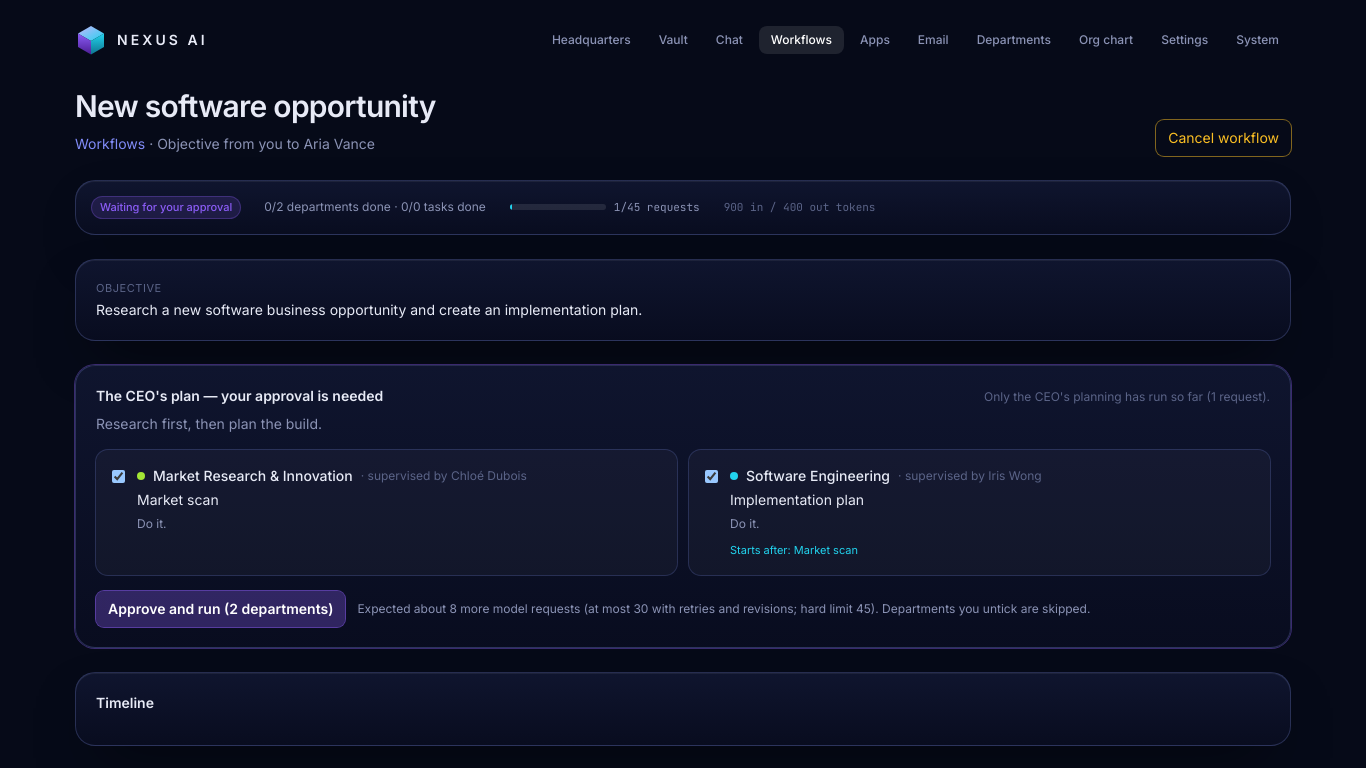
WorkflowDetailPage › asks for approval, shows dependencies and the cost estimate, and approves without removed departments
This screenshot has width=1366, height=768.
Expected: the element with test id "plan-review" shows "Research first, then plan the build.", [96,415,322,432]
Expected: the element with test id "plan-review" shows "Starts after: Market scan", [75,365,1291,648]
Step 1. Click the checkbox named "Include Market Research & Innovation" → (118, 476), box [112,470,125,483]
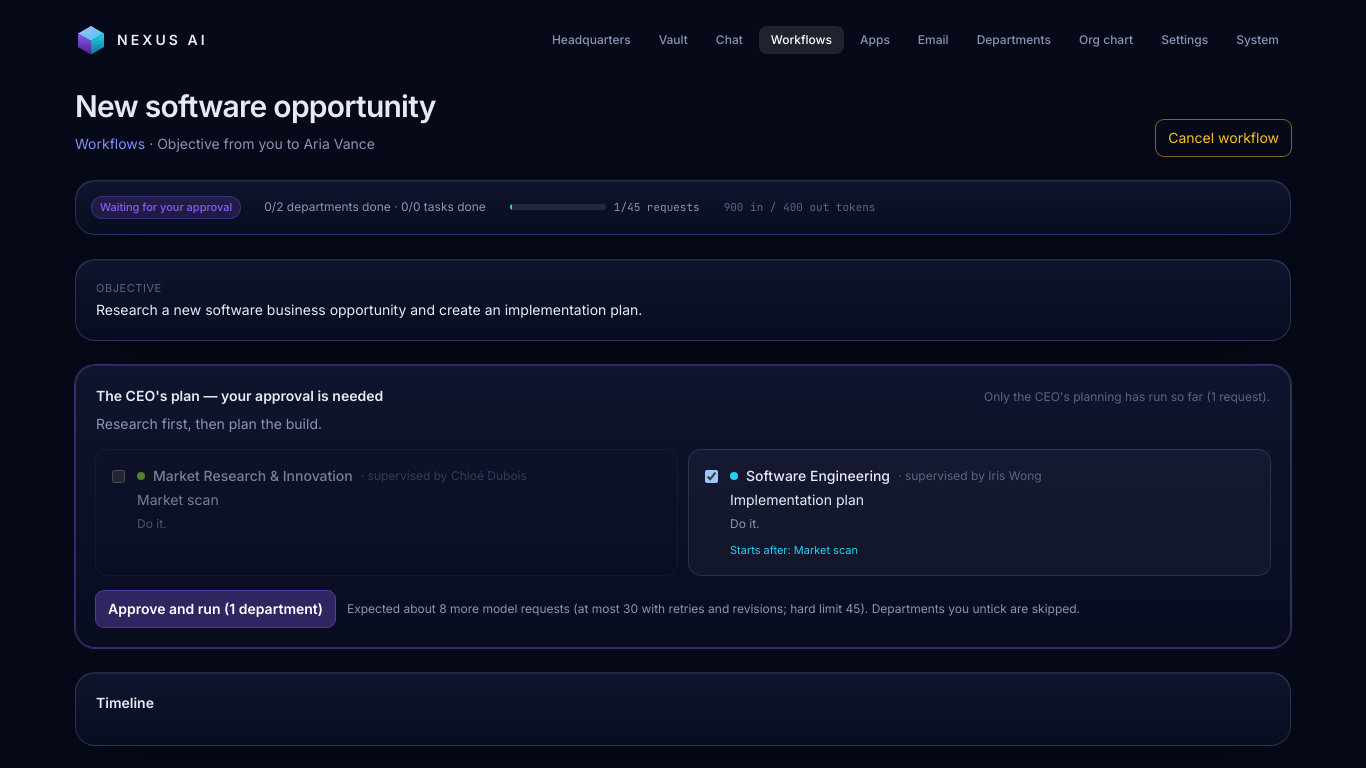
Step 2. Click the button "Approve and run (1 department)" → (216, 608), box [96,590,335,626]
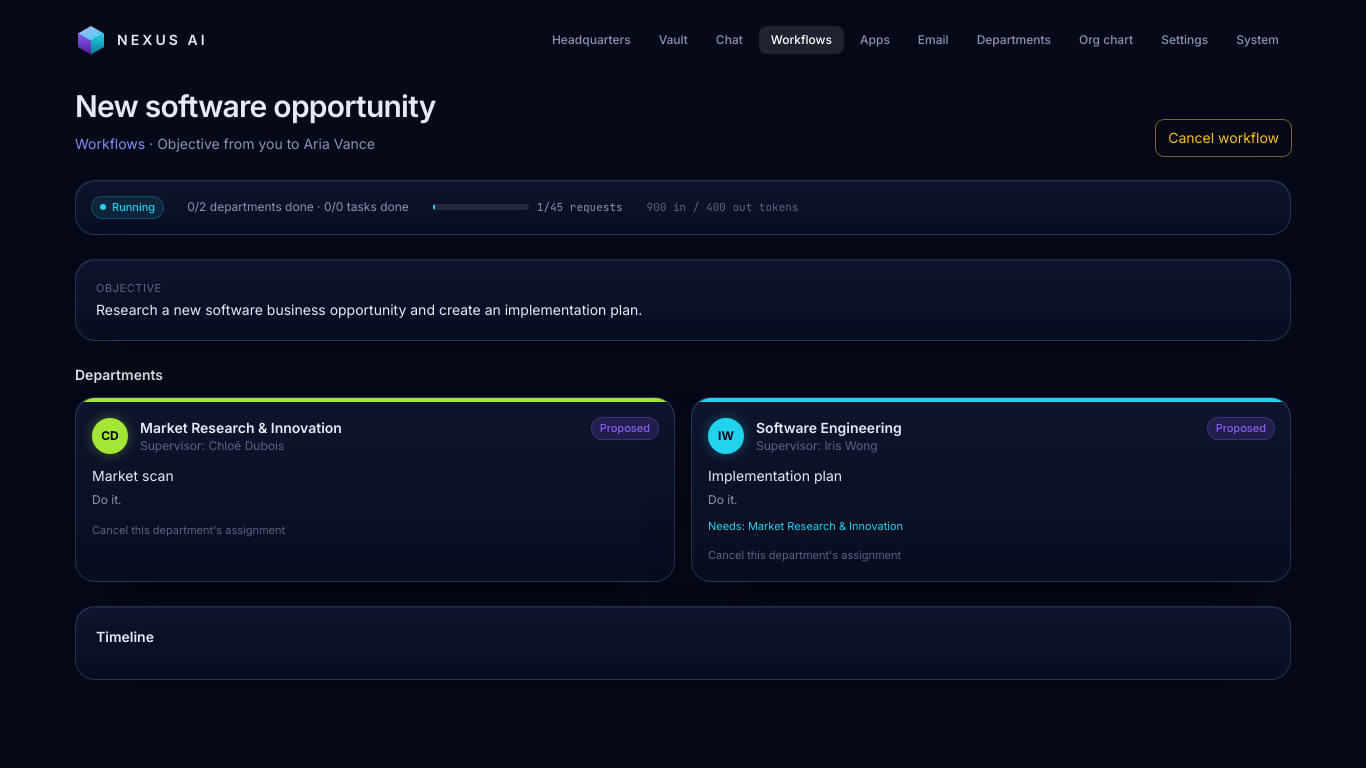
Expected: the element with test id "workflow-status" reads "Running", [112,200,155,214]
